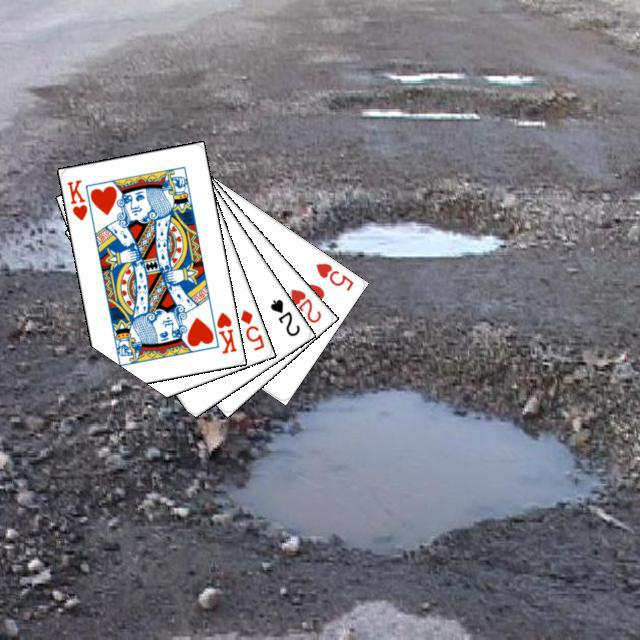2h: (285, 284, 323, 325)
2s: (265, 294, 302, 338)
5d: (235, 305, 266, 352)
5h: (310, 258, 355, 293)
Kh: (205, 305, 238, 355), (62, 175, 89, 222)
